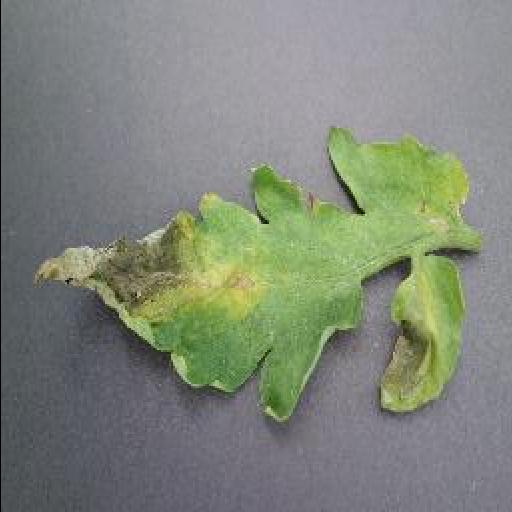disease_tomato: (36, 129, 470, 423)
